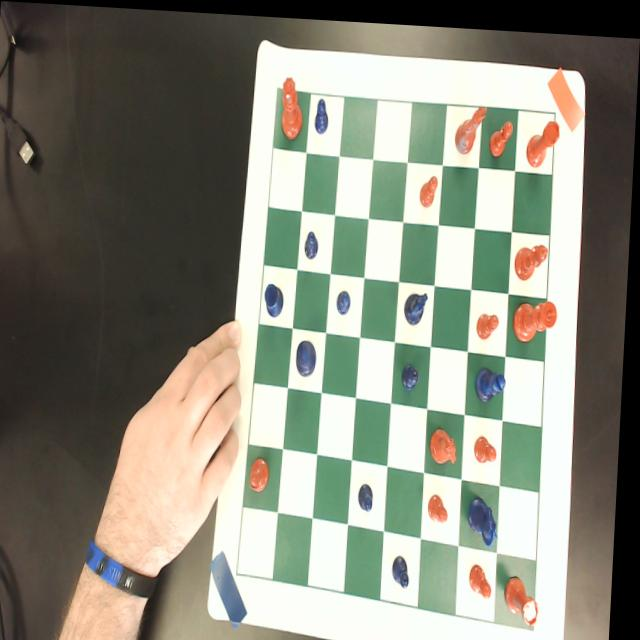B: (477, 360, 509, 396)
K: (298, 333, 320, 374)
N: (471, 488, 504, 541), (405, 284, 431, 319)
P: (396, 547, 415, 583), (314, 93, 330, 130), (403, 356, 422, 385), (362, 477, 378, 506), (338, 285, 354, 312), (305, 226, 320, 254)
R: (265, 279, 287, 314)
b: (516, 234, 549, 273), (253, 453, 274, 490)
cb: (242, 83, 555, 623)
k: (514, 292, 560, 338)
n: (455, 96, 488, 149), (433, 419, 463, 461)
p: (489, 111, 514, 152), (473, 555, 498, 593), (477, 429, 502, 460), (477, 304, 502, 334), (419, 168, 439, 203), (431, 488, 454, 517)
q: (280, 71, 305, 136)
r: (509, 566, 546, 620), (525, 110, 561, 163)
